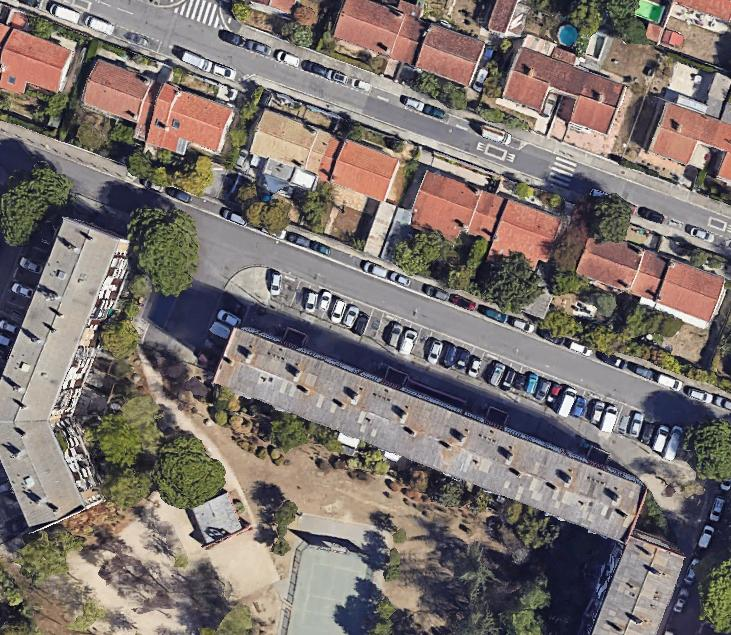immeuble: (211, 317, 652, 543), (0, 215, 138, 445), (0, 394, 106, 530), (578, 524, 689, 635)
maison: (497, 34, 632, 146), (407, 169, 504, 251), (144, 84, 233, 165), (74, 57, 162, 138), (575, 229, 668, 302), (246, 106, 333, 178), (648, 102, 731, 175), (0, 24, 73, 103), (332, 0, 422, 63), (488, 200, 562, 273), (653, 259, 727, 329), (413, 22, 485, 87), (329, 140, 398, 200), (678, 0, 730, 21), (719, 159, 730, 180)
